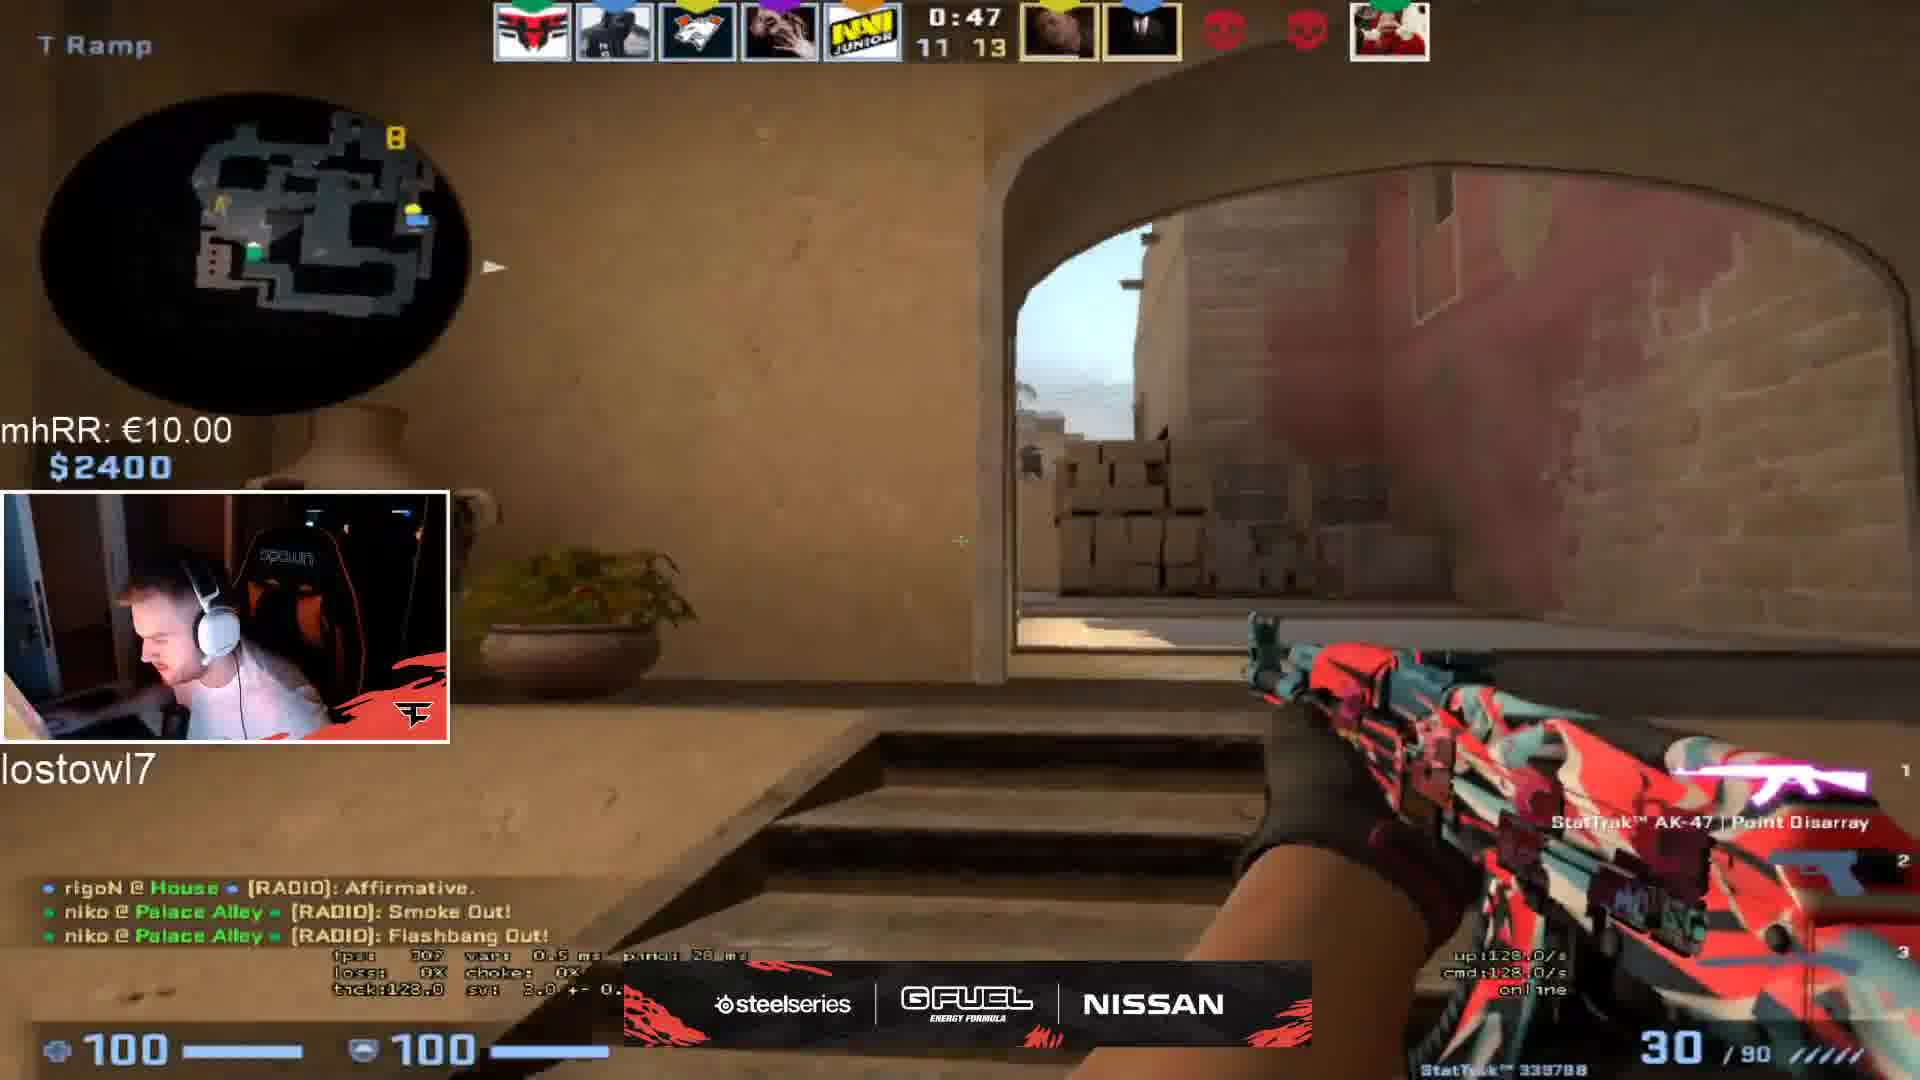enemy: (1018, 446, 1043, 479)
